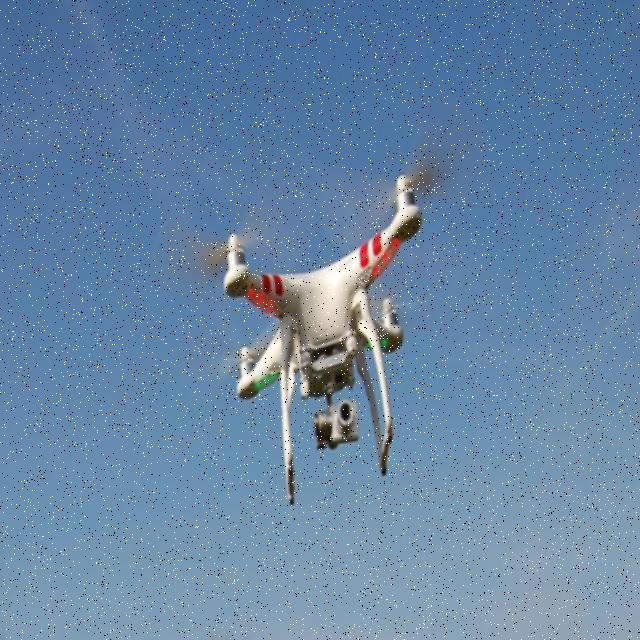UAV: (221, 170, 429, 503)
